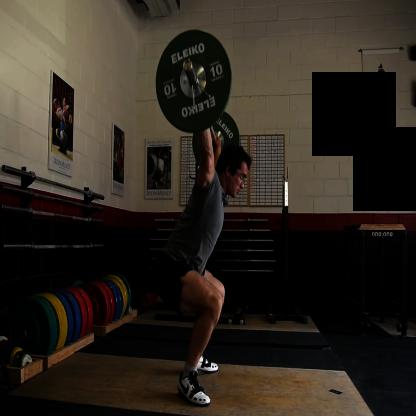barbell: (157, 30, 233, 134)
